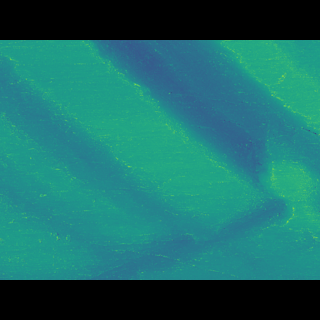Loch: (76, 69, 319, 217), (0, 79, 142, 193)
